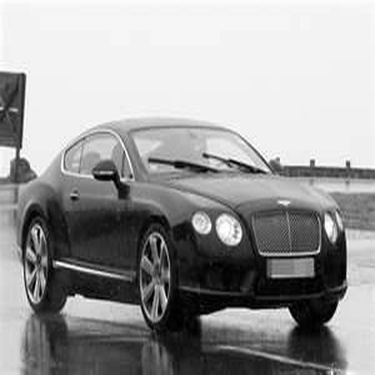car: (1, 117, 354, 338)
